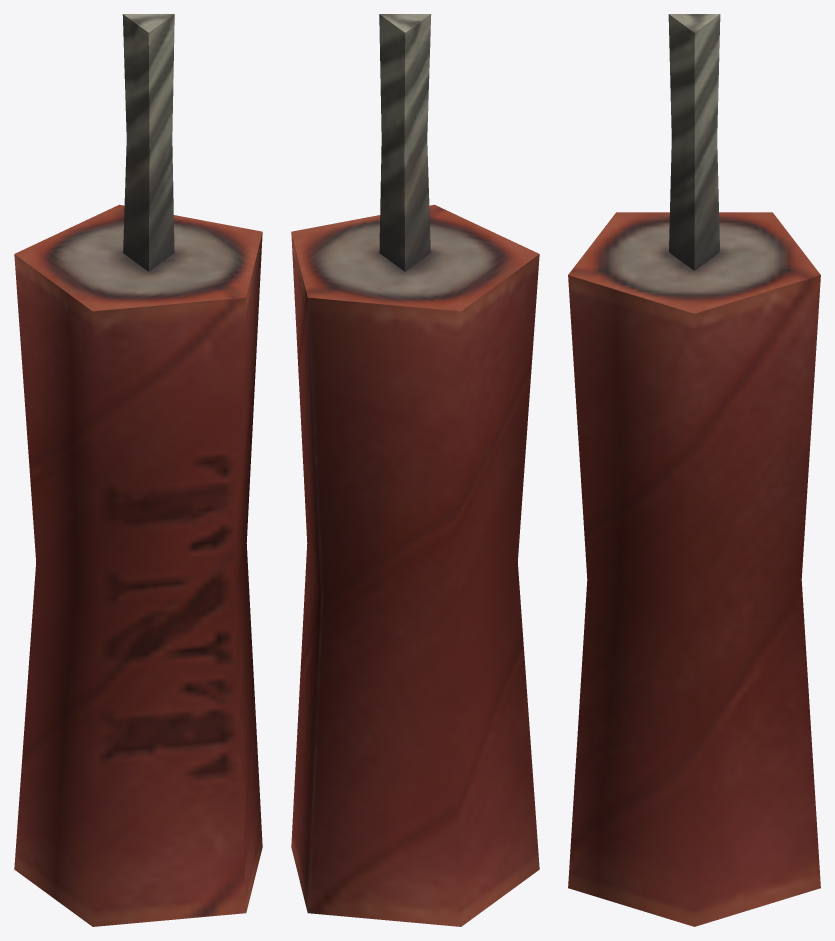
File: dynamite_stick.fbx
The picture shows the model from 3 angles, left to right: view 1: azimuth 30°, elevation 25°; view 2: azimuth 150°, elevation 25°; view 3: azimuth 270°, elevation 25°; orthographic projection.
Parts seen in each view (by area): view 1: dynamite_stick; view 2: dynamite_stick; view 3: dynamite_stick.
Boxes of the visible parts, <box> form: dynamite_stick: <box>14,14,262,926</box>; dynamite_stick: <box>291,14,539,926</box>; dynamite_stick: <box>568,14,820,926</box>.
Bounding box in the file's own units: 6.99 × 27.3 × 7.35.
